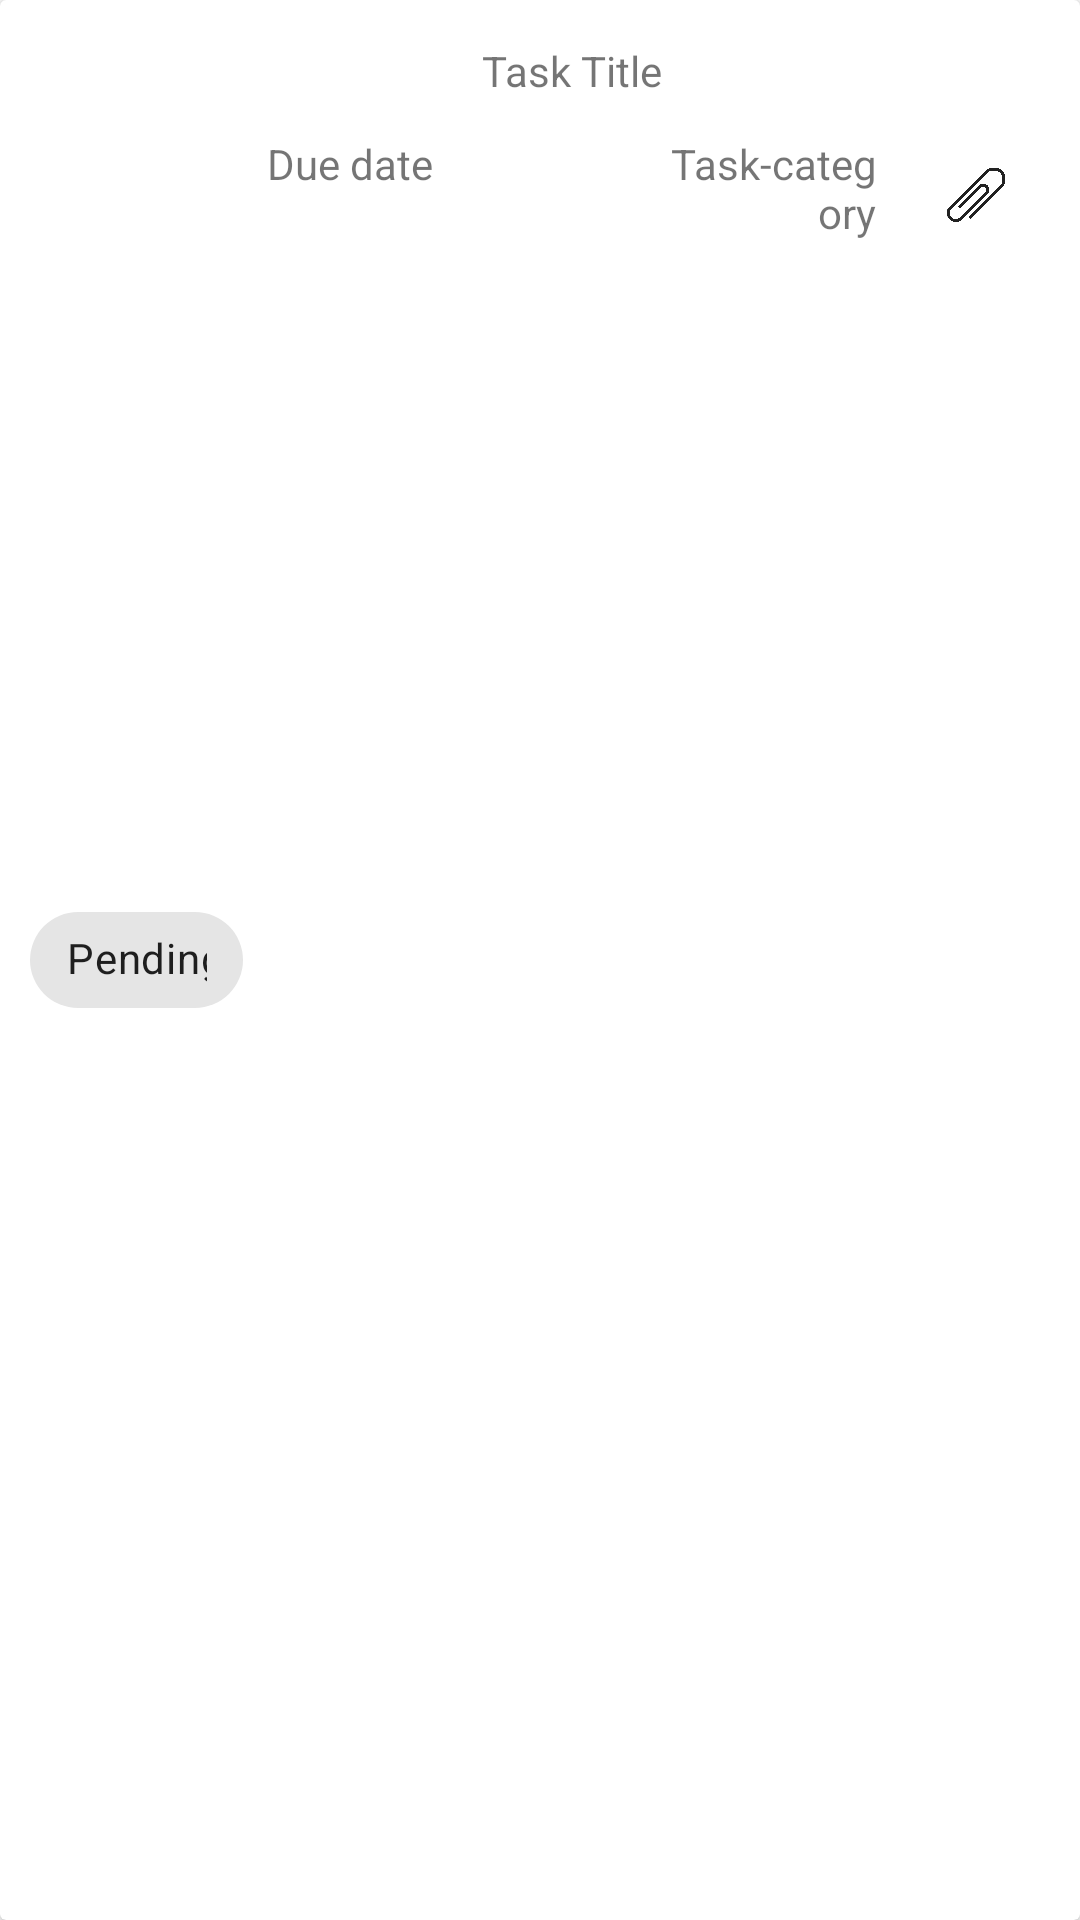

Named icons in this screenshot (1080w x 1920h) and their bounding boxes, {"left": x1, "top": y1, "right": x2, "bottom": y2}:
paperclip: {"left": 947, "top": 168, "right": 1005, "bottom": 222}
